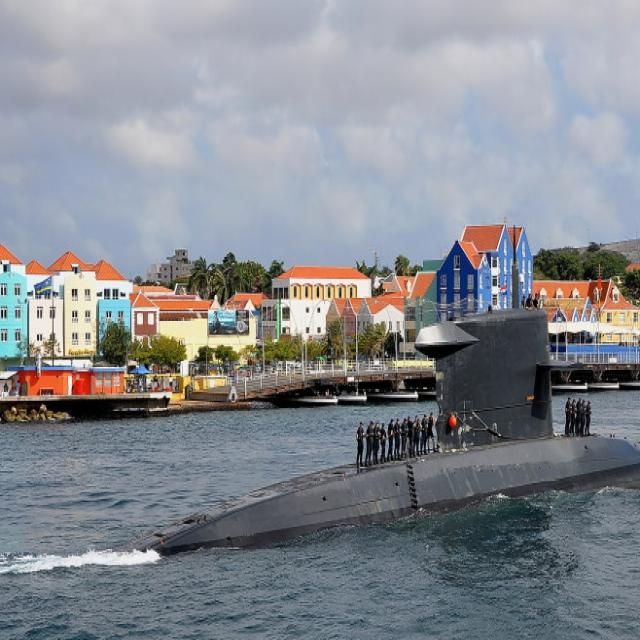submarine: (91, 271, 640, 568)
